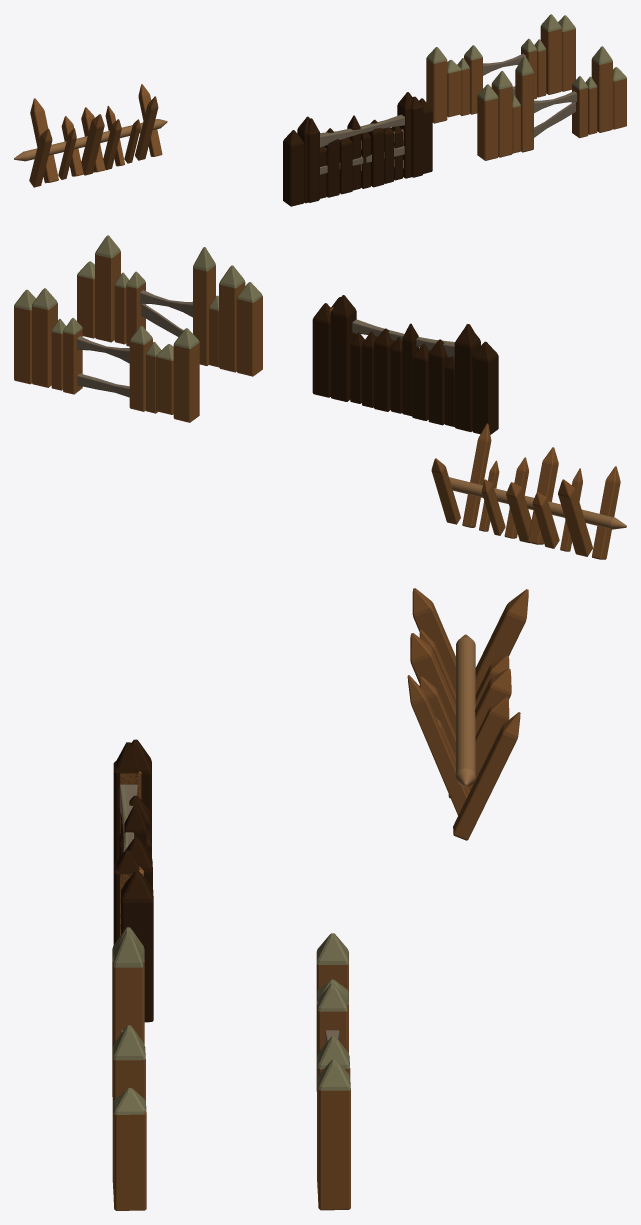
Rendered from fence4.fbx.
The picture shows the model from 3 angles, top to bottom: view 1: azimuth 30°, elevation 25°; view 2: azimuth 150°, elevation 25°; view 3: azimuth 270°, elevation 25°; orthographic projection. The views are drawn at different scales.
Parts seen in each view (by area): view 1: Cube.012, Cube.024, Cube.033, Cube.042, Cube.002, Cube.003, Cylinder, Cube.010, Cube.011; view 2: Cube.024, Cube.012, Cube.033, Cube.042, Cylinder, Cube.011, Cube.010, Cube.005; view 3: Cube.042, Cube.012, Cube.033, Cube.024, Cylinder, Cube, Cube.002.
Boxes of the visible parts, bbox=[...] form: Cube.012: bbox=[477, 46, 626, 160]; Cube.024: bbox=[283, 92, 432, 206]; Cube.033: bbox=[426, 14, 575, 123]; Cube.042: bbox=[29, 84, 162, 187]; Cube.002: bbox=[307, 105, 423, 202]; Cube.003: bbox=[320, 115, 404, 174]; Cylinder: bbox=[14, 119, 167, 161]; Cube.010: bbox=[534, 91, 576, 137]; Cube.011: bbox=[483, 54, 525, 95]; Cube.024: bbox=[312, 295, 498, 434]; Cube.012: bbox=[77, 235, 262, 376]; Cube.033: bbox=[14, 288, 199, 422]; Cube.042: bbox=[431, 423, 620, 559]; Cylinder: bbox=[449, 477, 626, 529]; Cube.011: bbox=[77, 336, 129, 397]; Cube.010: bbox=[140, 290, 192, 336]; Cube.005: bbox=[352, 320, 454, 358]; Cube.042: bbox=[407, 588, 528, 840]; Cube.012: bbox=[112, 927, 146, 1210]; Cube.033: bbox=[316, 933, 350, 1210]; Cube.024: bbox=[118, 739, 153, 1022]; Cylinder: bbox=[456, 634, 475, 786]; Cube: bbox=[116, 742, 139, 938]; Cube.002: bbox=[113, 761, 136, 944].
Bounding box in the file's own units: 1798 × 305 × 618.
